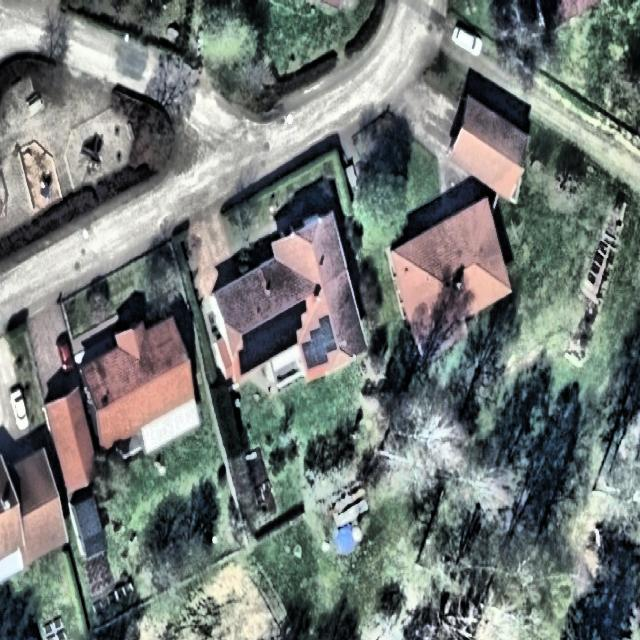roof_pv: (236, 293, 309, 377), (303, 302, 339, 377)
